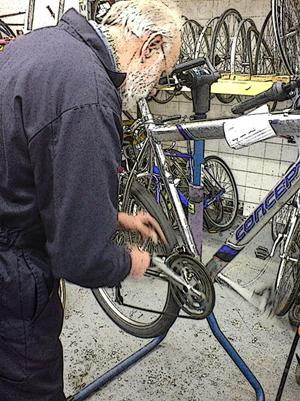person: (2, 3, 183, 400)
